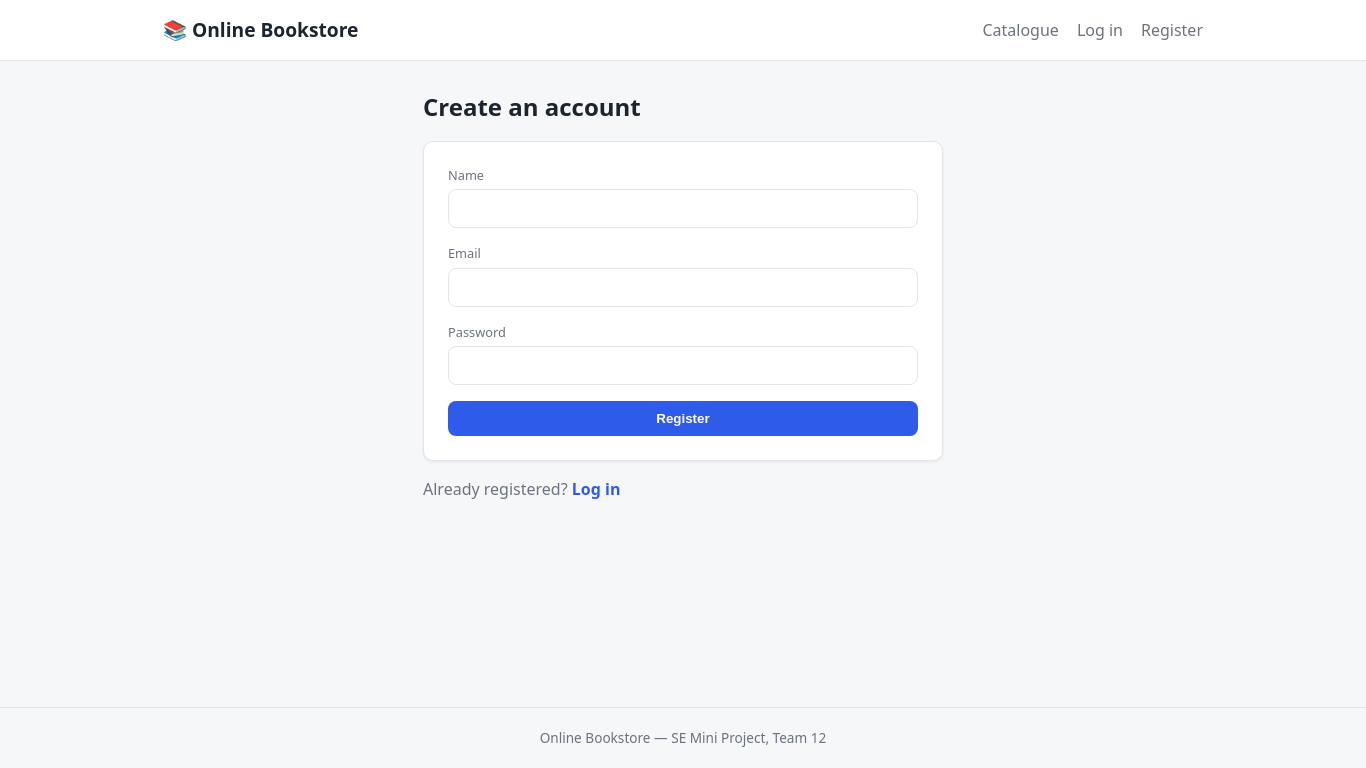
catalogue frontend › registers with the backend and directs the user to login
This screenshot has width=1366, height=768.
Type "Reader" into the field labelled "Name" at (683, 209), box x1=448 y1=189 x2=918 y2=228
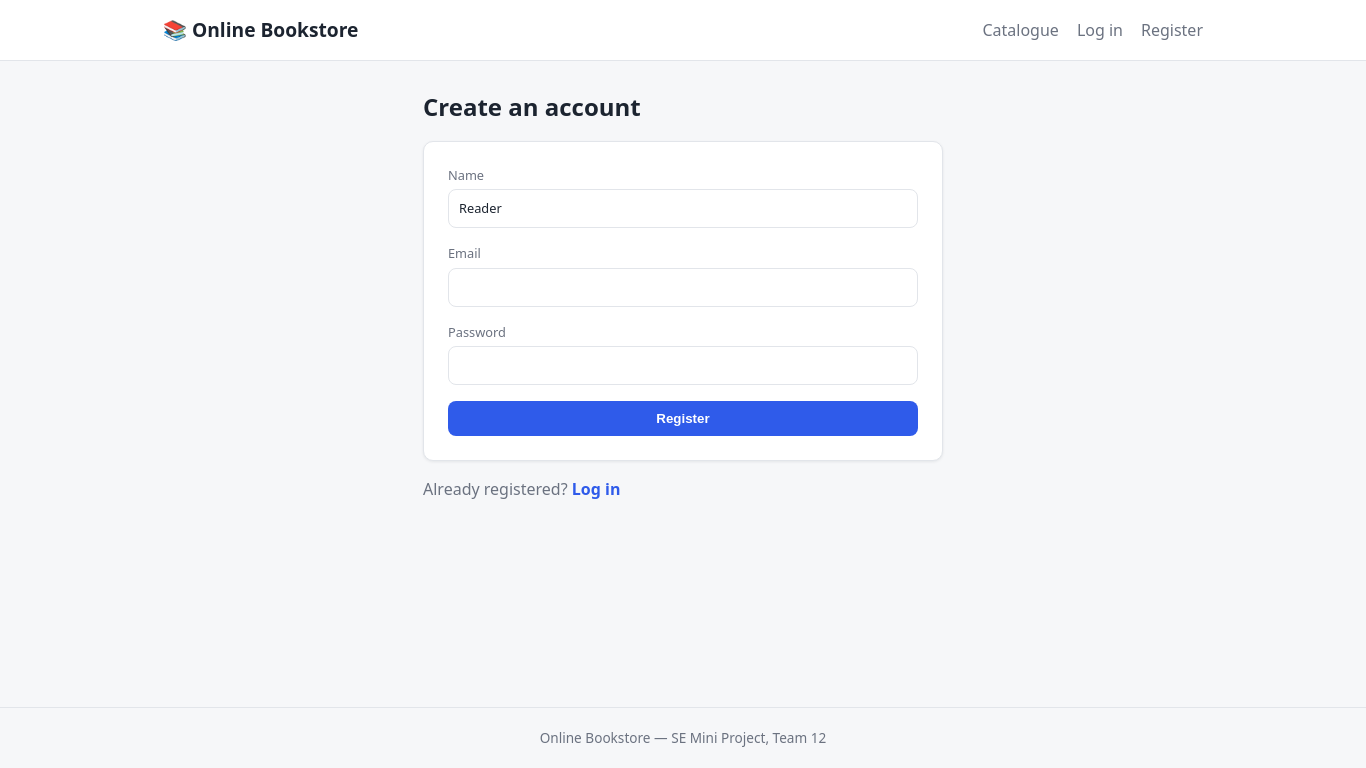
Type "reader@example.com" into the field labelled "Email" at (683, 287), box x1=448 y1=268 x2=918 y2=307
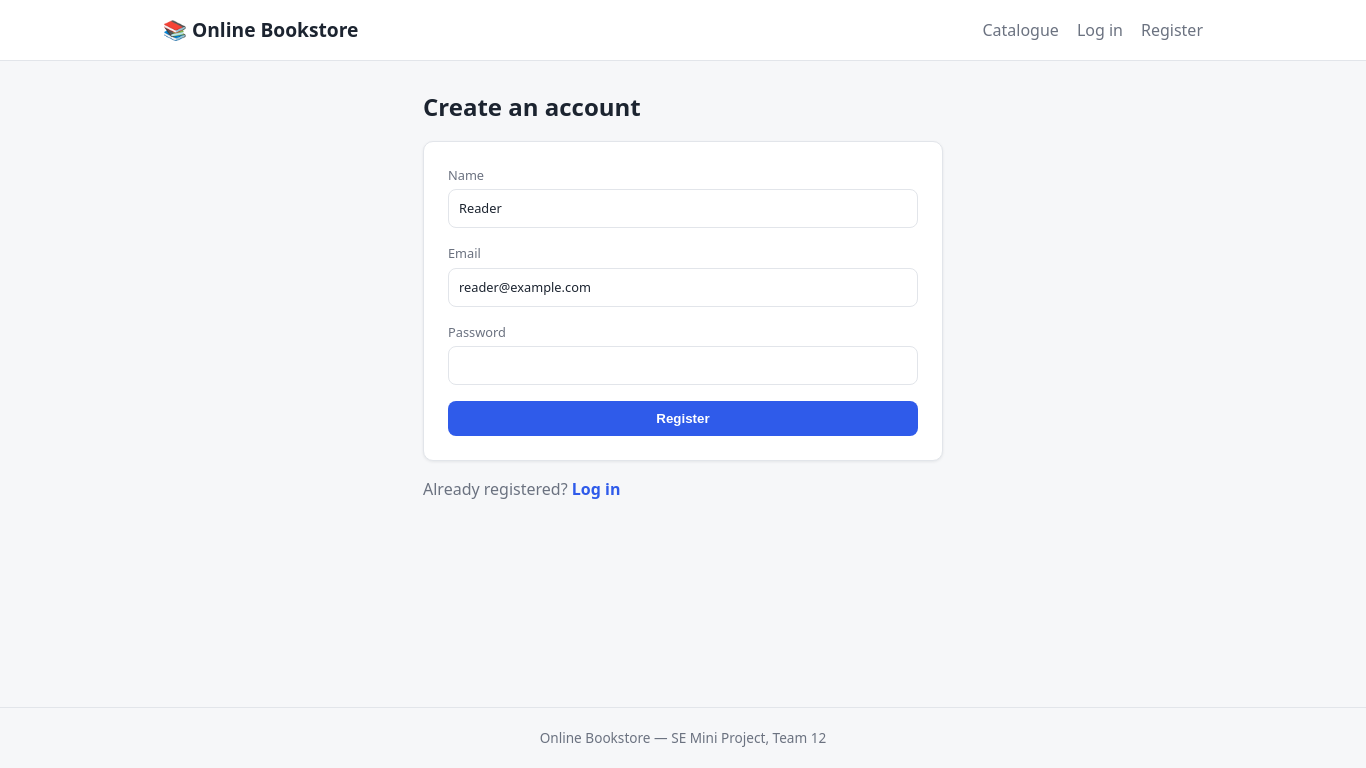
Type "Test@12345" into the password field labelled "Password" at (683, 366), box x1=448 y1=346 x2=918 y2=385
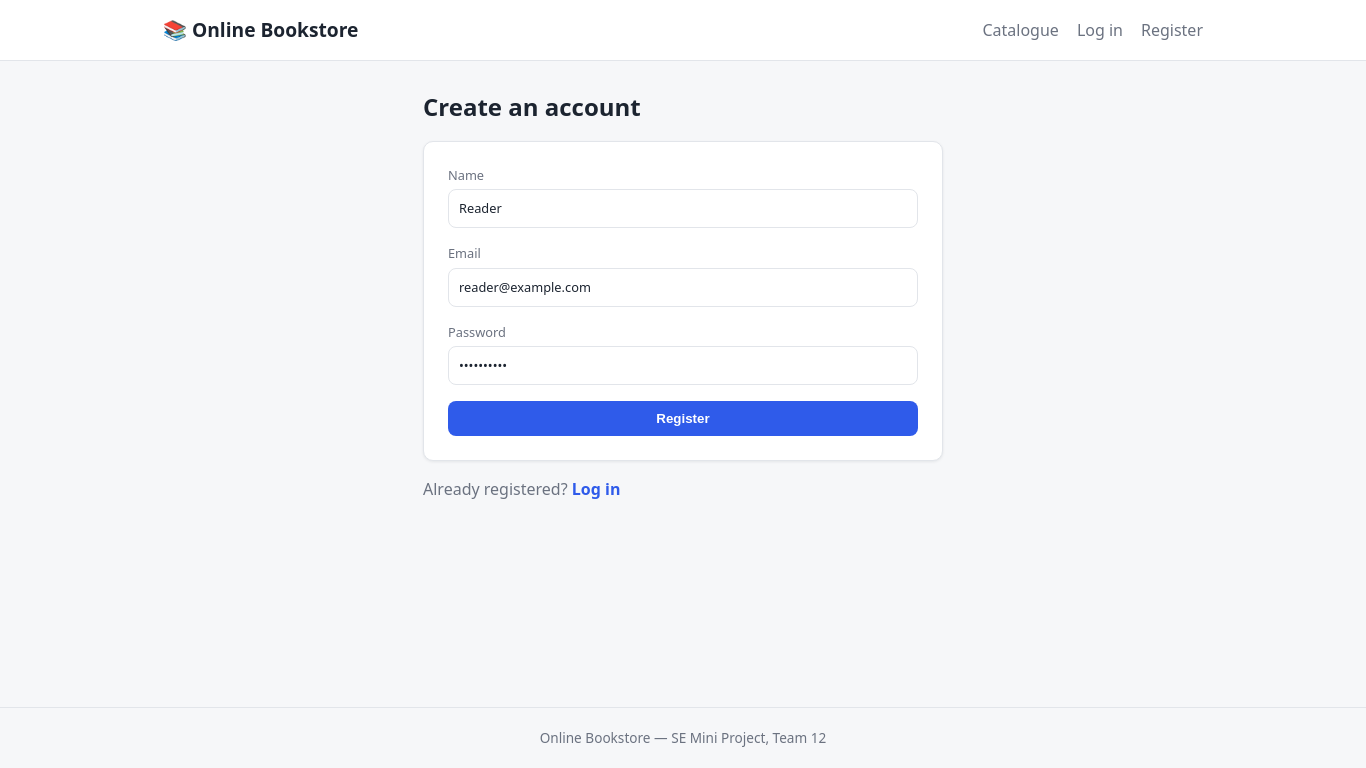
Click the button "Register" at (683, 419), box x1=448 y1=401 x2=918 y2=436
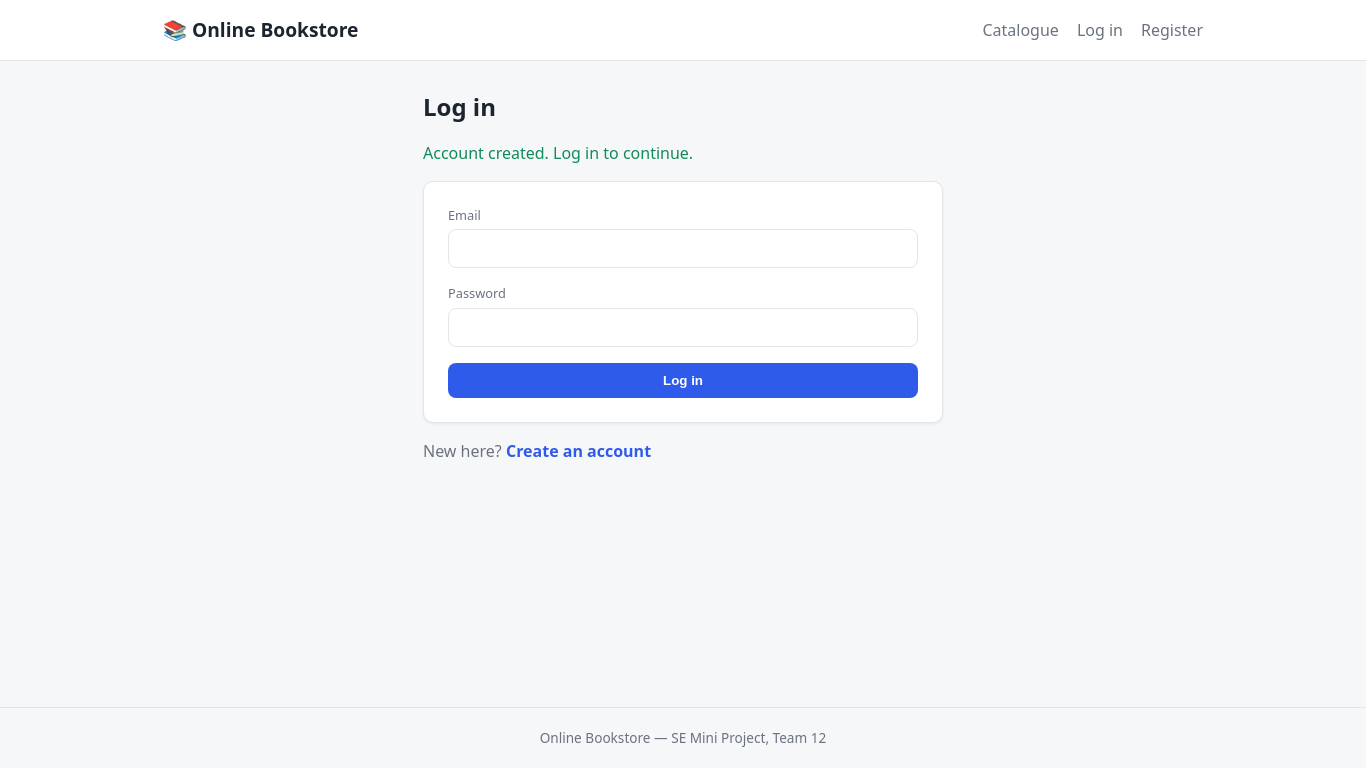
Expected: the text "Account created. Log in to continue." is shown, x1=423 y1=142 x2=693 y2=164
